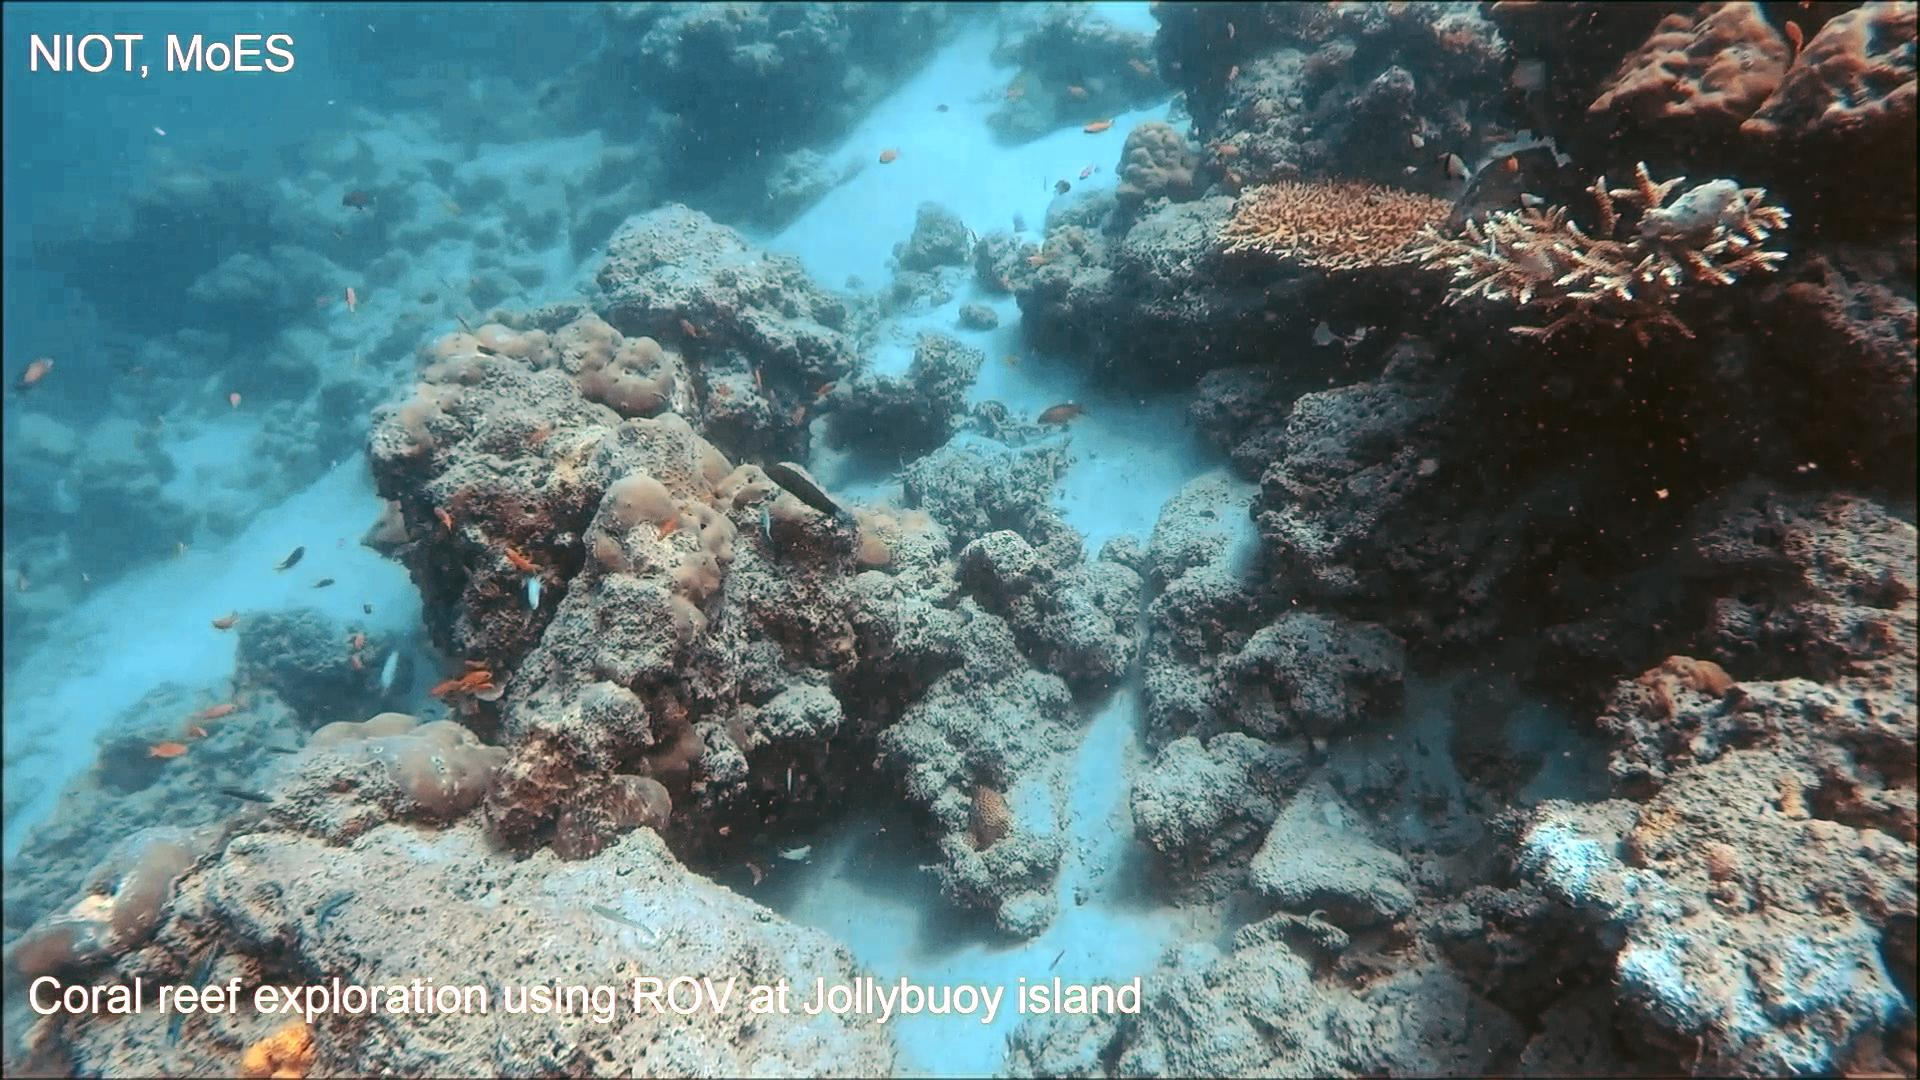Porites-Porites pukoensis: (528, 302, 779, 645)
